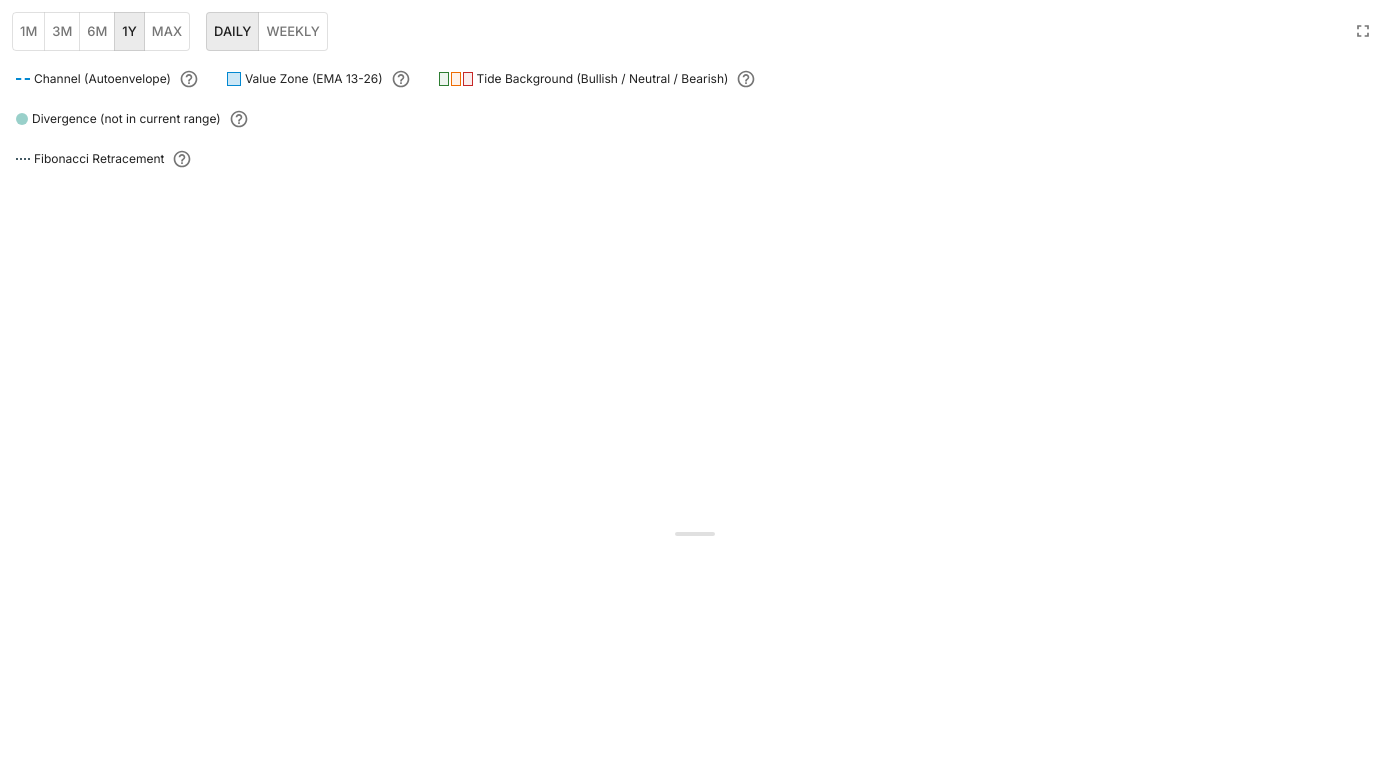
Scenario: PriceChart › divergence overlay (frontend-divergence-markers) › still shows the Divergence legend (noting it is not in the current range) when the divergence dates fall outside the currently visible bar range
This screenshot has width=1390, height=780.
Check: the text "Divergence (not in current range)" is shown, box [32,109,221,129]
Click the button named "Divergence help" at (239, 119), box [229,109,249,129]
(page scrolled)
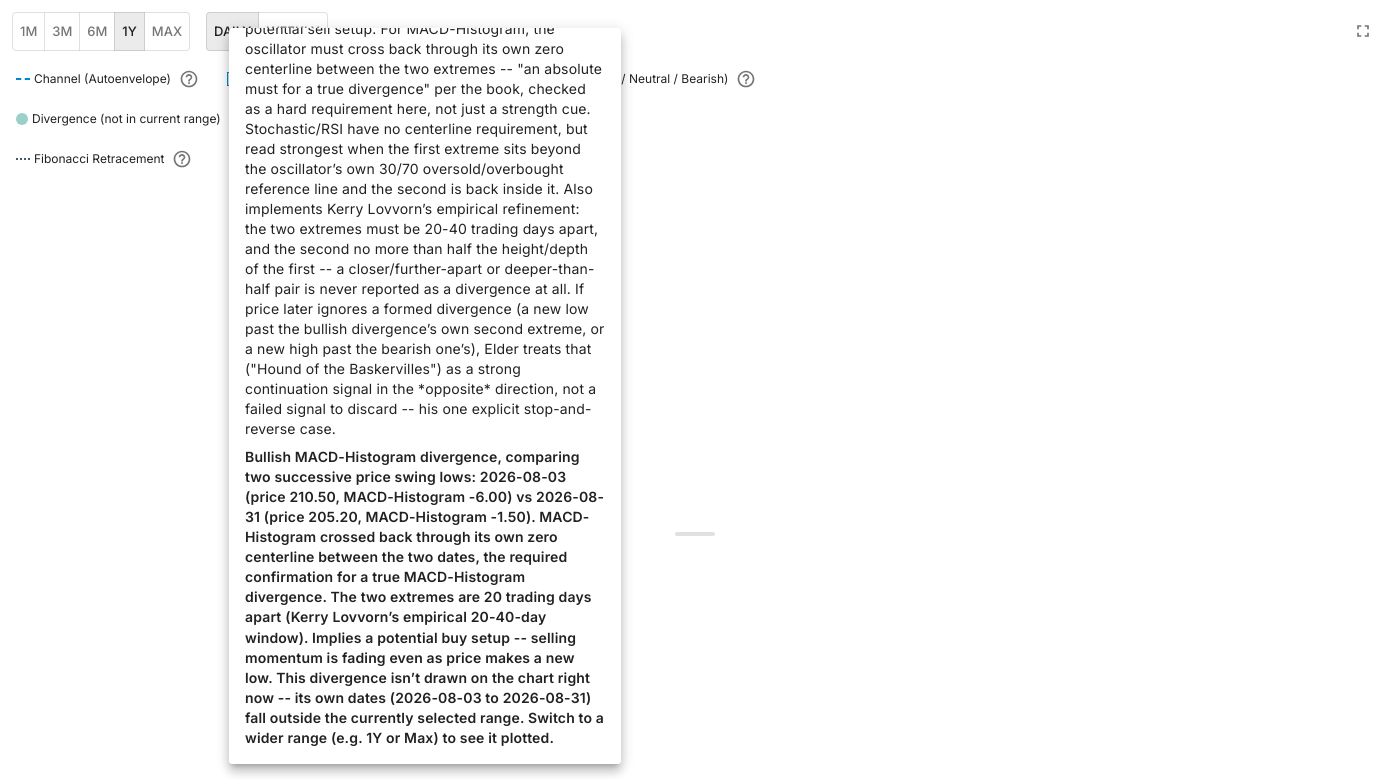
Check: the text "isn’t drawn on the chart right now" is shown, box [245,448,604,746]
